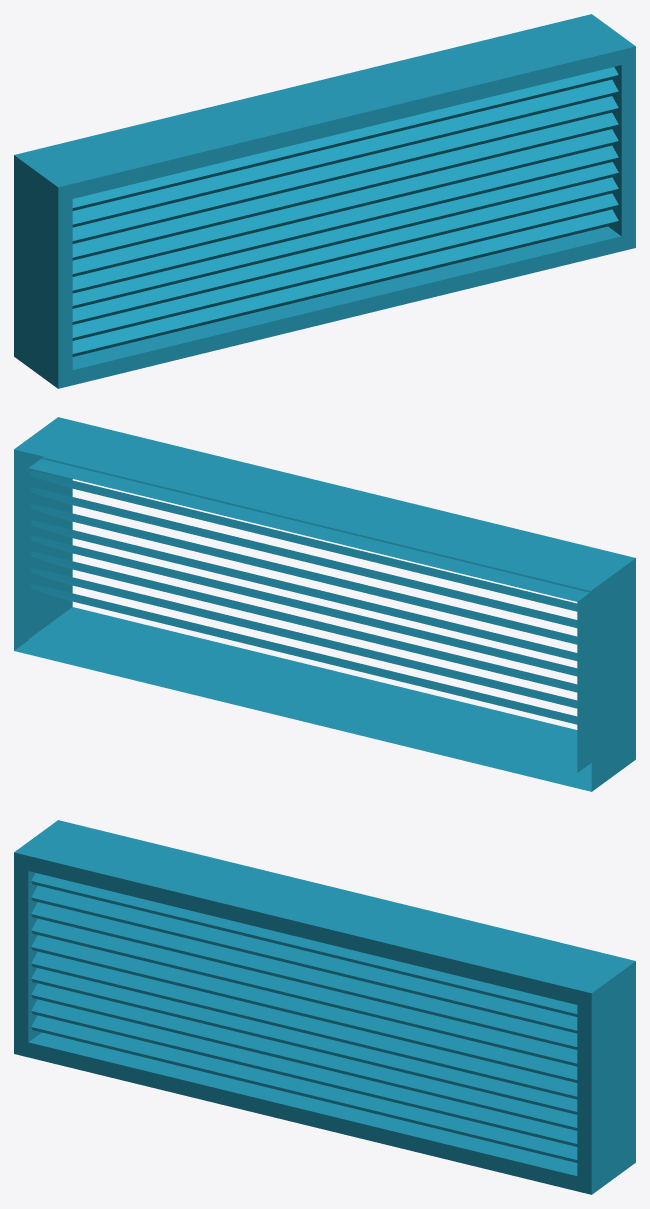
Rendered from SM_Duct_Aeration_Grid_Large.FBX.
3 views of the same model, one above another, from view 1: azimuth 30°, elevation 25°; view 2: azimuth 150°, elevation 25°; view 3: azimuth 330°, elevation 25° (orthographic).
Parts seen in each view (by area): view 1: Duct_Aeration_Grid_Large_LOD0; view 2: Duct_Aeration_Grid_Large_LOD0; view 3: Duct_Aeration_Grid_Large_LOD0.
Boxes of the visible parts, left/top/right/bottom form: Duct_Aeration_Grid_Large_LOD0: left=14, top=14, right=635, bottom=388; Duct_Aeration_Grid_Large_LOD0: left=14, top=417, right=635, bottom=791; Duct_Aeration_Grid_Large_LOD0: left=14, top=820, right=635, bottom=1194.
Size of what is drawn, in the model's own units: 0.6176 by 0.2059 by 0.0818.
